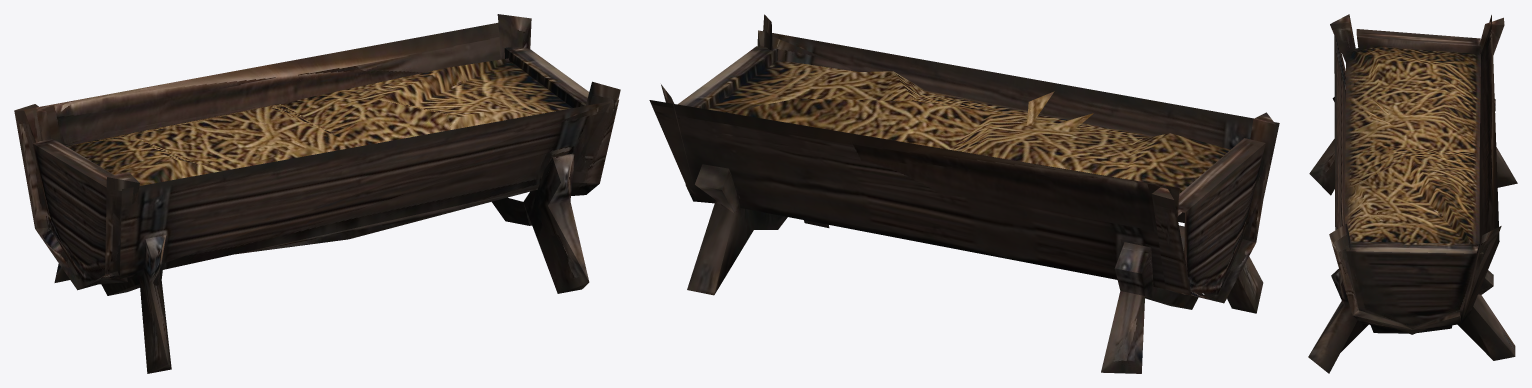
File: legacy_camp-animals_trough.glb
3 renders of one model, left to right at view 1: azimuth 30°, elevation 25°; view 2: azimuth 150°, elevation 25°; view 3: azimuth 270°, elevation 25°, orthographic. The views are drawn at different scales.
Visible parts, largest first — view 1: L_camp-animals_trough; view 2: L_camp-animals_trough; view 3: L_camp-animals_trough.
Part boxes in pixels (x1,y1,x2,y2): L_camp-animals_trough: (14, 14, 620, 373); L_camp-animals_trough: (649, 14, 1279, 373); L_camp-animals_trough: (1308, 14, 1517, 373).
Size of the model in its own units: 2.5 by 1.03 by 1.1.
1 material, 1 textured.
